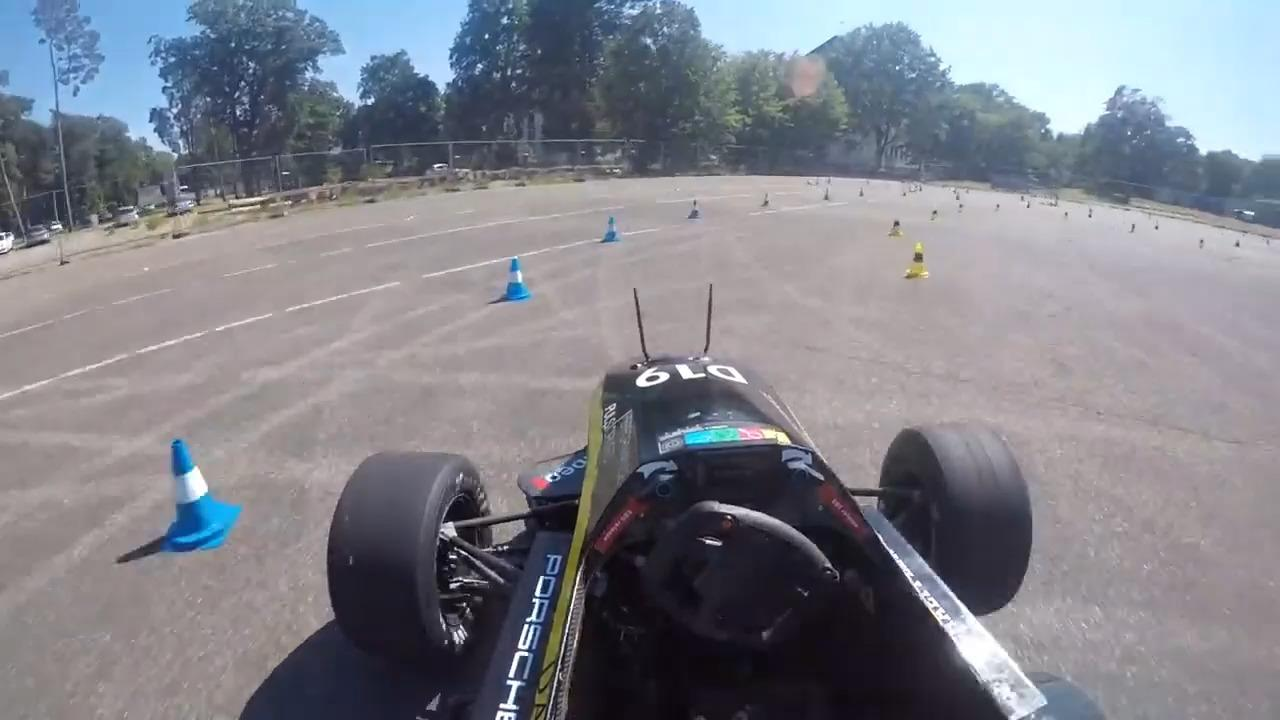blue_cone: (160, 439, 243, 552), (499, 258, 530, 303), (602, 215, 621, 243), (688, 198, 703, 219)
yellow_cone: (904, 240, 929, 279), (889, 215, 905, 237)
